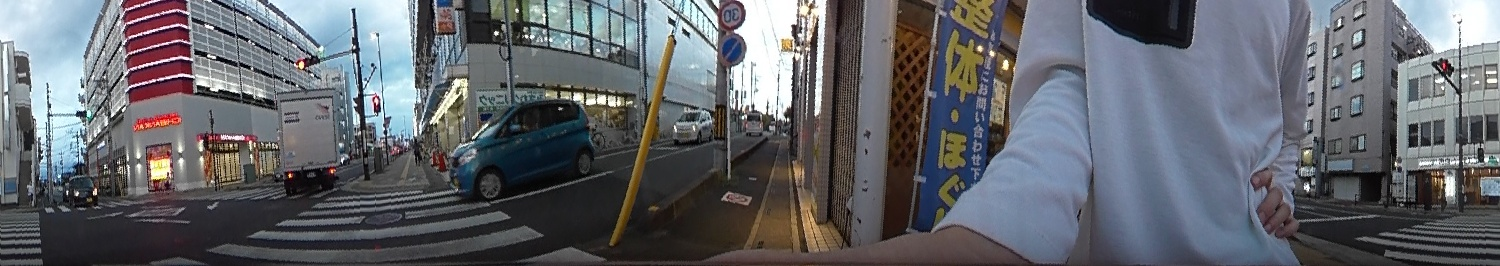difficult_person: (409, 137, 423, 167), (162, 168, 173, 191)
